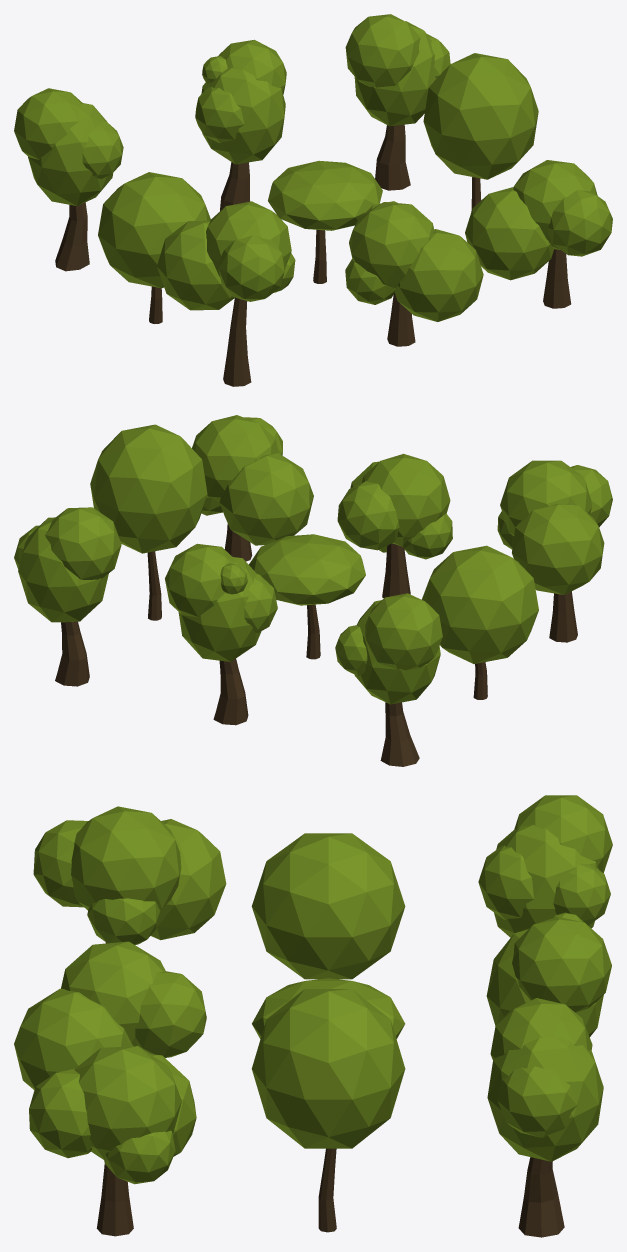
File: trees.fbx
The picture shows the model from 3 angles, top to bottom: view 1: azimuth 30°, elevation 25°; view 2: azimuth 150°, elevation 25°; view 3: azimuth 270°, elevation 25°; orthographic projection. The views are drawn at different scales.
Parts seen in each view (by area): view 1: Icosphere.005, Icosphere.004, Icosphere.003, Icosphere.002, Icosphere.006, Icosphere.007, Icosphere.008, Icosphere, Icosphere.001, Tree.007, Tree.002, Tree.001 (+4 smaller); view 2: Icosphere.003, Icosphere.002, Icosphere.005, Icosphere, Icosphere.007, Icosphere.004, Icosphere.008, Icosphere.006, Icosphere.001, Tree.001, Tree.004, Tree.007 (+6 smaller); view 3: Icosphere.003, Icosphere.002, Icosphere, Icosphere.004, Icosphere.005, Icosphere.008, Icosphere.006, Icosphere.007, Tree.007, Icosphere.001, Tree.008, Tree.006.
Part boxes in pixels (x1=…): Icosphere.005: x1=465, y1=160, x2=612, y2=280; Icosphere.004: x1=345, y1=201, x2=483, y2=321; Icosphere.003: x1=157, y1=201, x2=295, y2=310; Icosphere.002: x1=423, y1=53, x2=538, y2=179; Icosphere.006: x1=14, y1=88, x2=123, y2=205; Icosphere.007: x1=195, y1=39, x2=286, y2=164; Icosphere.008: x1=345, y1=14, x2=450, y2=126; Icosphere: x1=98, y1=172, x2=210, y2=288; Icosphere.001: x1=268, y1=160, x2=382, y2=230; Tree.007: x1=375, y1=124, x2=410, y2=190; Tree.002: x1=223, y1=297, x2=251, y2=386; Tree.001: x1=55, y1=202, x2=89, y2=271; Icosphere.003: x1=497, y1=460, x2=612, y2=594; Icosphere.002: x1=90, y1=424, x2=207, y2=553; Icosphere.005: x1=192, y1=415, x2=313, y2=545; Icosphere: x1=421, y1=545, x2=538, y2=663; Icosphere.007: x1=165, y1=543, x2=277, y2=661; Icosphere.004: x1=337, y1=453, x2=452, y2=559; Icosphere.008: x1=14, y1=507, x2=121, y2=622; Icosphere.006: x1=335, y1=593, x2=442, y2=704; Icosphere.001: x1=249, y1=534, x2=365, y2=605; Tree.001: x1=380, y1=702, x2=419, y2=766; Tree.004: x1=213, y1=658, x2=248, y2=725; Tree.007: x1=55, y1=621, x2=89, y2=686; Icosphere.003: x1=33, y1=806, x2=226, y2=944; Icosphere.002: x1=251, y1=989, x2=405, y2=1148; Icosphere: x1=251, y1=833, x2=405, y2=979; Icosphere.004: x1=14, y1=941, x2=206, y2=1089; Icosphere.005: x1=29, y1=1046, x2=196, y2=1184; Icosphere.008: x1=487, y1=998, x2=603, y2=1161; Icosphere.006: x1=478, y1=795, x2=612, y2=937; Icosphere.007: x1=486, y1=912, x2=611, y2=1037; Tree.007: x1=518, y1=1157, x2=564, y2=1237; Icosphere.001: x1=252, y1=978, x2=405, y2=1038; Tree.008: x1=96, y1=1164, x2=133, y2=1236; Tree.006: x1=318, y1=1148, x2=336, y2=1232.
Size of the model in its own units: 3026 by 1256 by 2809.
